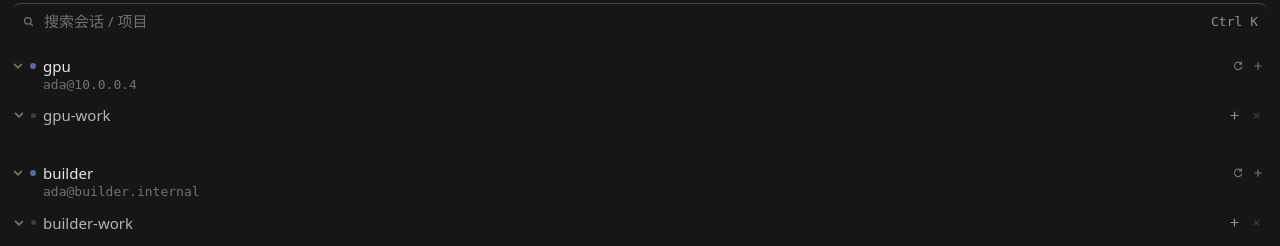
Test: the rail's search reaches every machine › keeps a machine whose address matches, not only its name
In the search field labelled "搜索会话 / 项目": (623, 21) [42,10,1204,32], type "10.0.0"
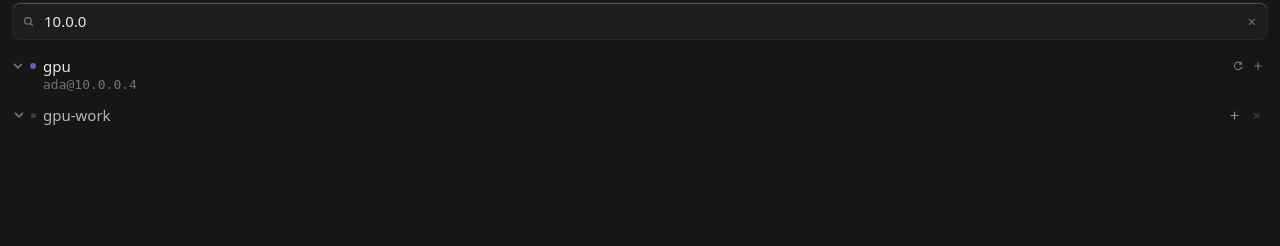
Expected: the text "gpu" is shown, [43,56,71,76]
Now the text "builder" is gone
